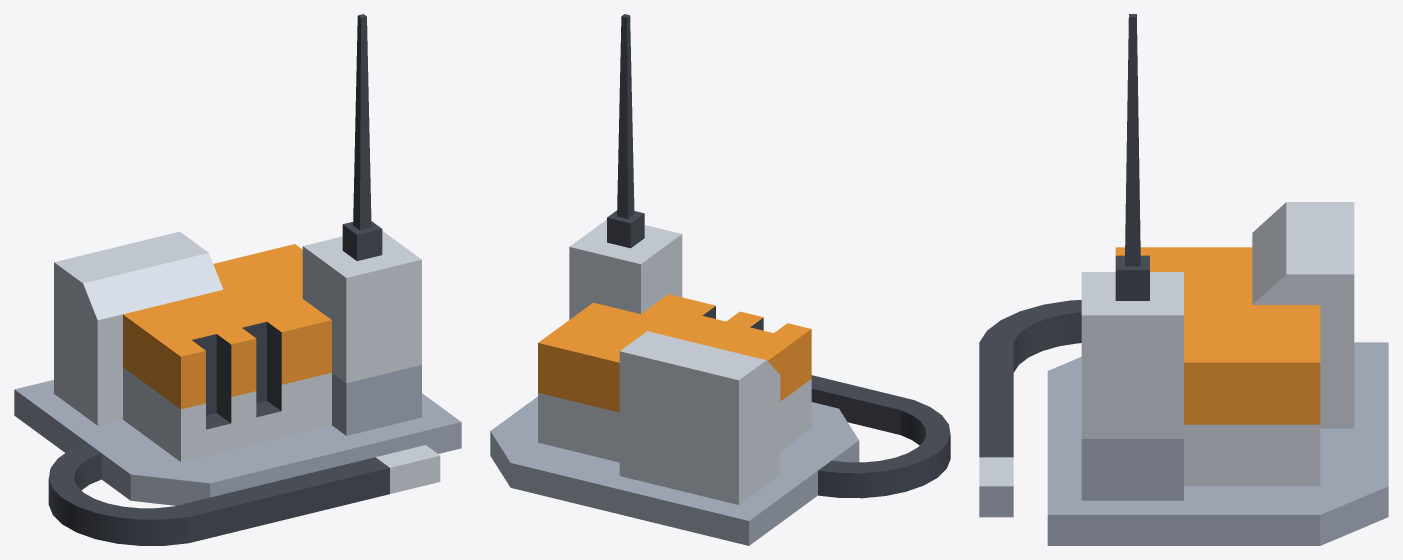
Rendered from machine_wirelessCable.dae.
3 views of the same model, side by side, from view 1: azimuth 30°, elevation 25°; view 2: azimuth 150°, elevation 25°; view 3: azimuth 270°, elevation 25° (orthographic). The views are drawn at different scales.
Visible parts, largest first — view 1: machine_wirelessCable, cable; view 2: machine_wirelessCable, cable; view 3: machine_wirelessCable, cable.
Boxes of the visible parts, <box> form: machine_wirelessCable: <box>14,14,461,505</box>; cable: <box>48,442,440,545</box>; machine_wirelessCable: <box>490,14,859,545</box>; cable: <box>811,375,950,498</box>; machine_wirelessCable: <box>1047,14,1388,545</box>; cable: <box>979,300,1081,517</box>.
Size of the model in its own units: 0.75 by 0.8 by 0.6.
